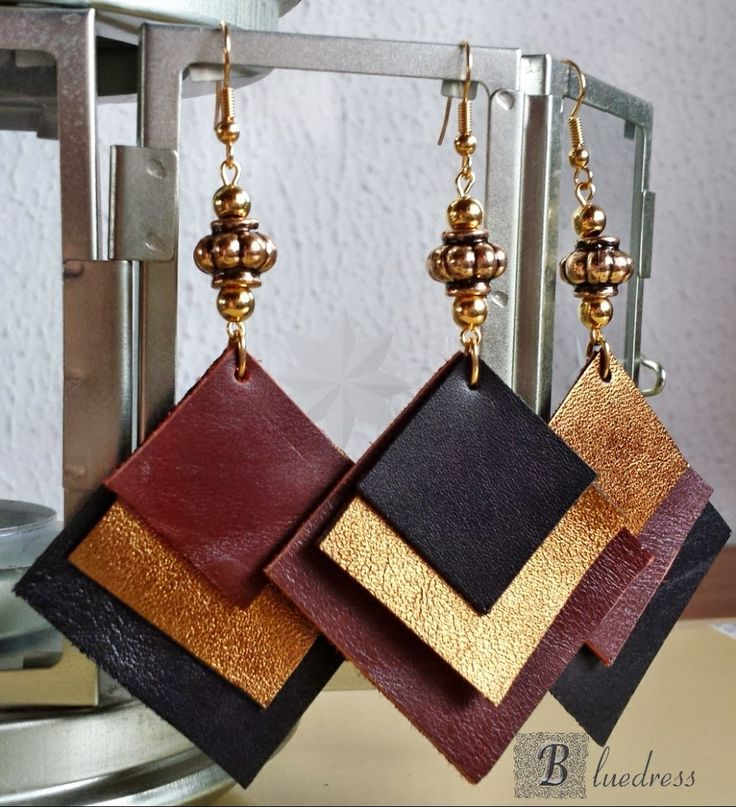cuero: (13, 336, 732, 788)
